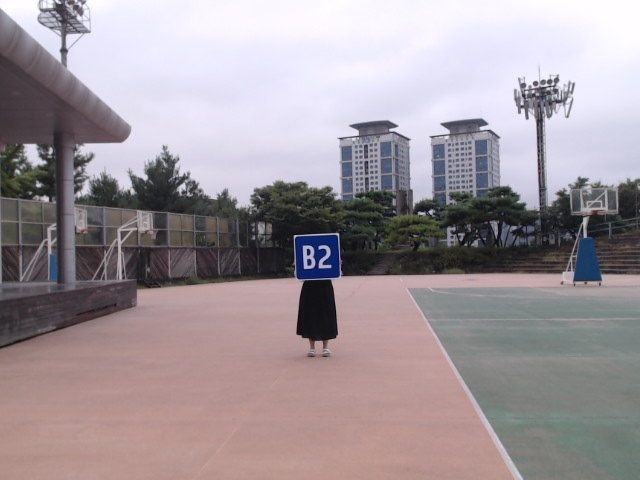delivery_b2: (294, 233, 340, 281)
